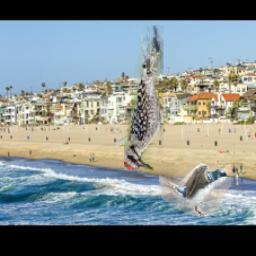Swallow: (159, 161, 231, 216)
Woodpecker: (123, 26, 162, 171)
